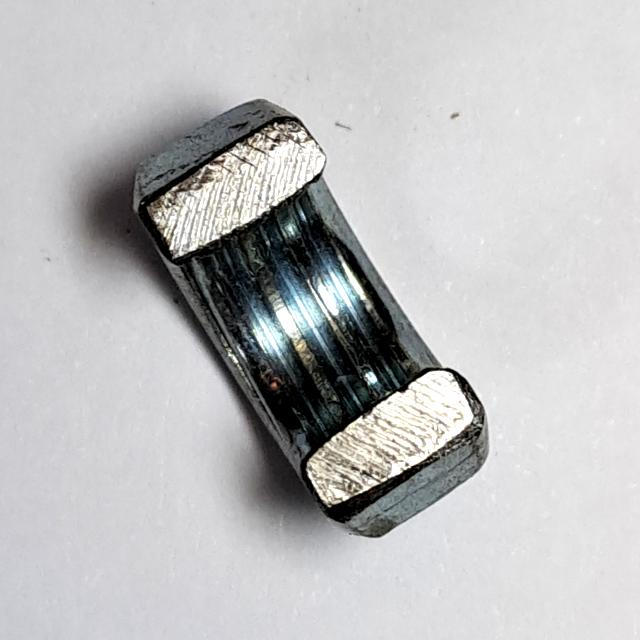Side-Fracture: (113, 83, 511, 561)
